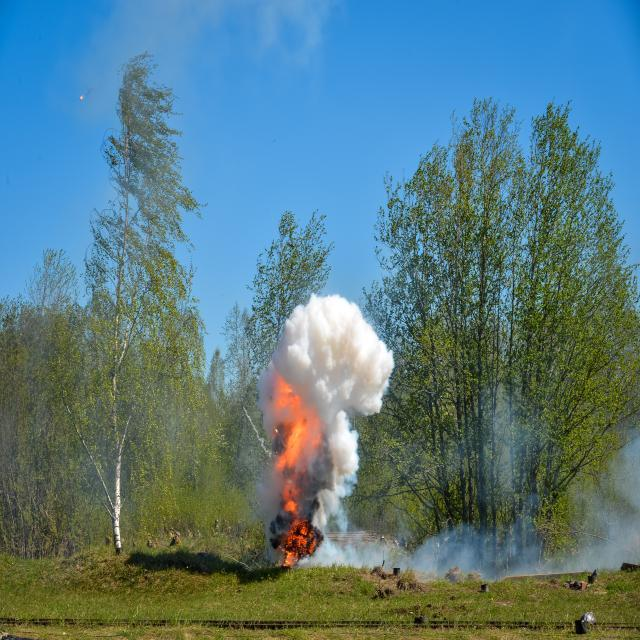Fire: (270, 370, 320, 556)
Smoke: (318, 370, 640, 584), (258, 287, 394, 372)
